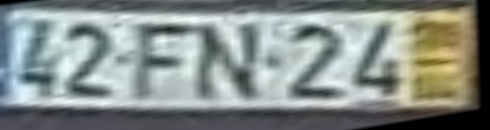2: (283, 22, 350, 103), (59, 19, 119, 99)
4: (348, 22, 409, 102), (15, 16, 65, 99)
F: (126, 21, 200, 106)
N: (192, 21, 264, 102)
